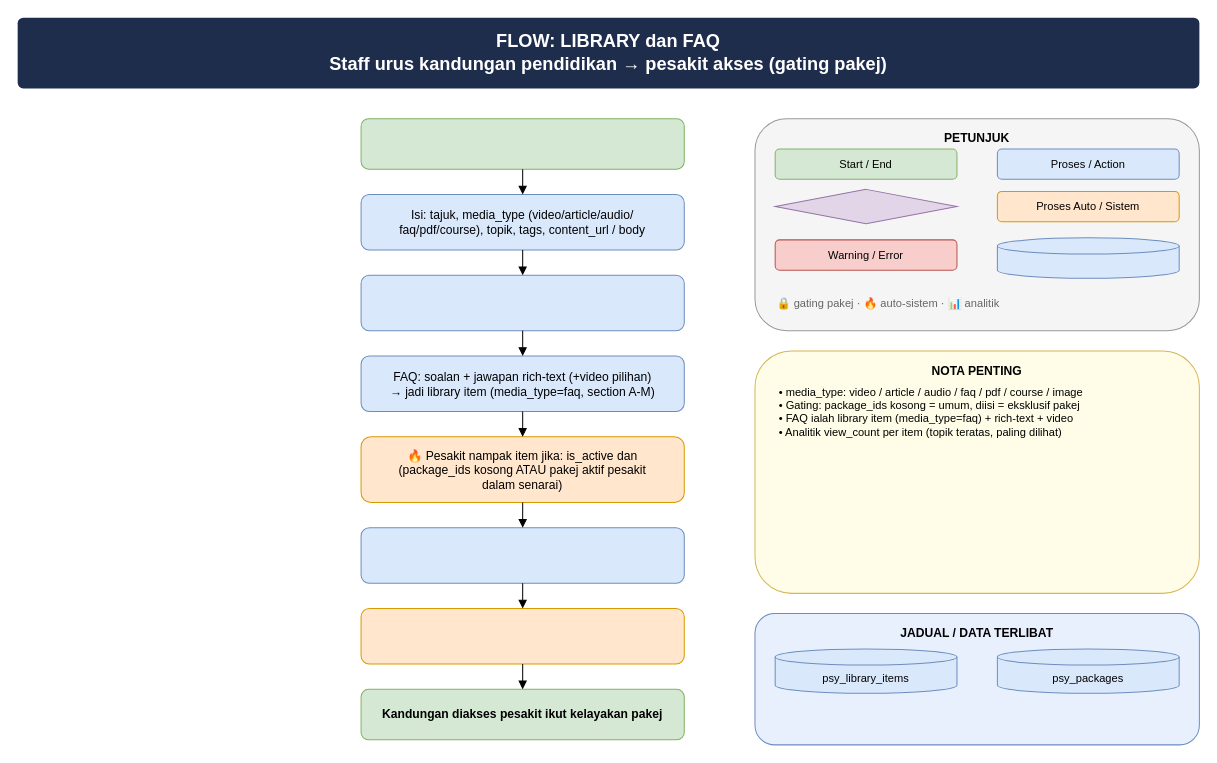
This 1217x763 diagram has some shape labels left out. Here are the shapes that lost their labels. From the top down, the centre of each, then its label:
(522,143): START Staff buka library.html → cipta item
(865,206): Keputusan / Decision
(1087,257): Database
(522,302): Set akses: package_ids (kosong=umum; diisi=eksklusif pakej). Terbit / draf
(522,555): Pesakit buka library.html: tapis jenis/topik, carian. FAQ dipapar accordion
(522,636): 🔥 view_count++ bila item dibuka (analitik: topik teratas, paling dilihat)
